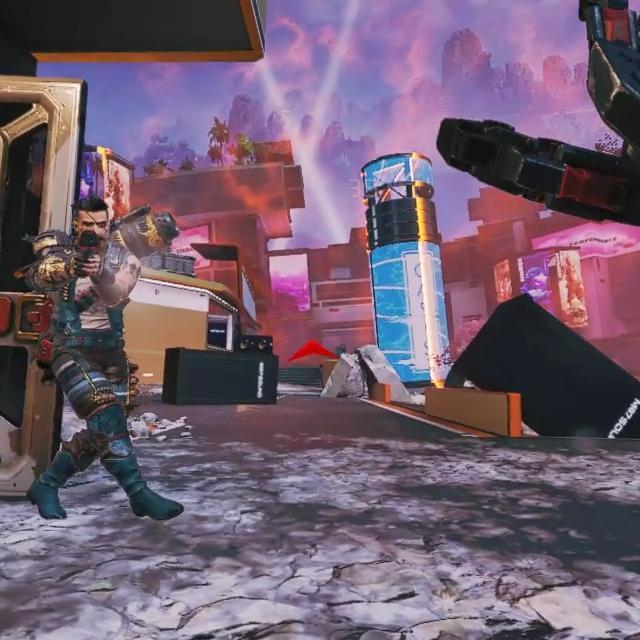avatar: (24, 192, 146, 523)
